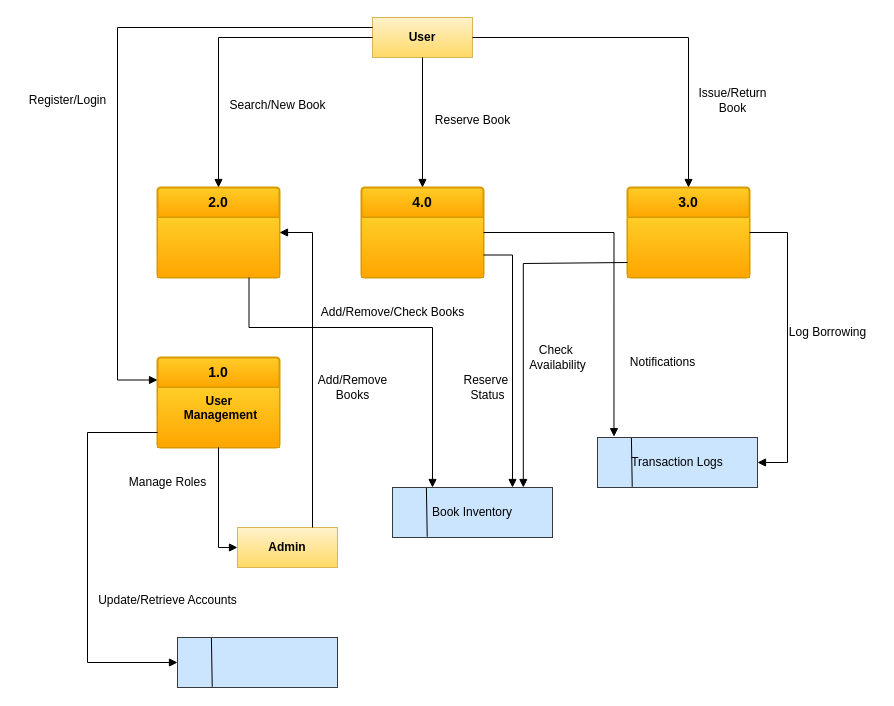
Image size: 894x706. Some labels were removed from this diagram. The shapes that lost their labels are listed below. From the top down, each one's box as (x1, y1, x2, y2) in pixels, then its label:
(156, 216, 280, 278): Book Catalog Management
(360, 216, 484, 278): Reservation and Notifications
(626, 216, 750, 278): Borrowing System
(176, 636, 338, 688): User Accounts
